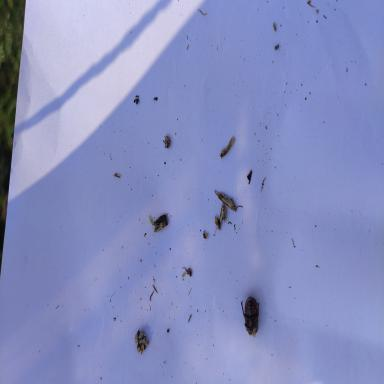pbw: (214, 189, 236, 212), (212, 202, 226, 236), (219, 137, 234, 159)
